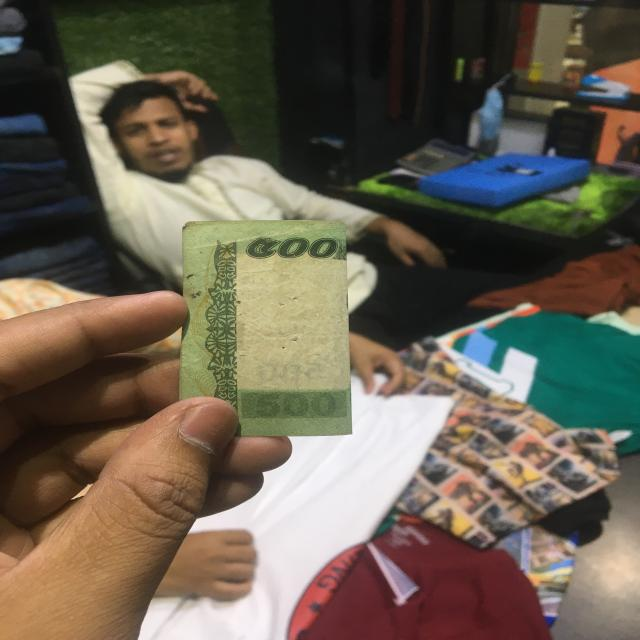Taka: (174, 223, 356, 435)
